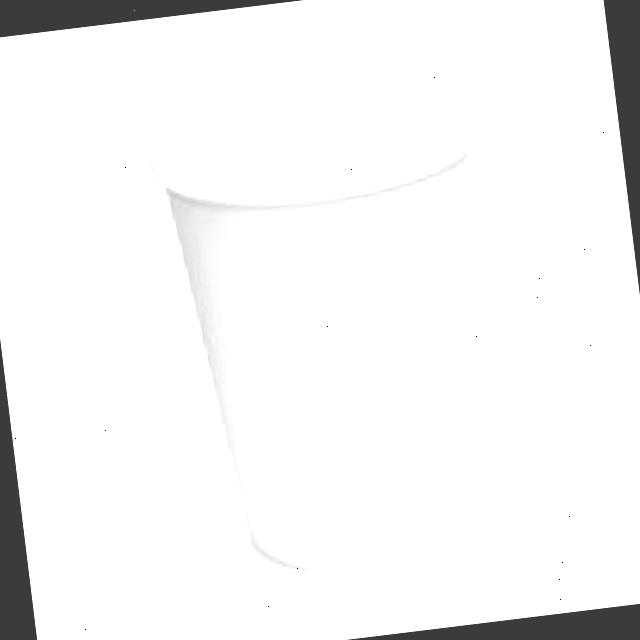trash: (141, 71, 533, 597)
